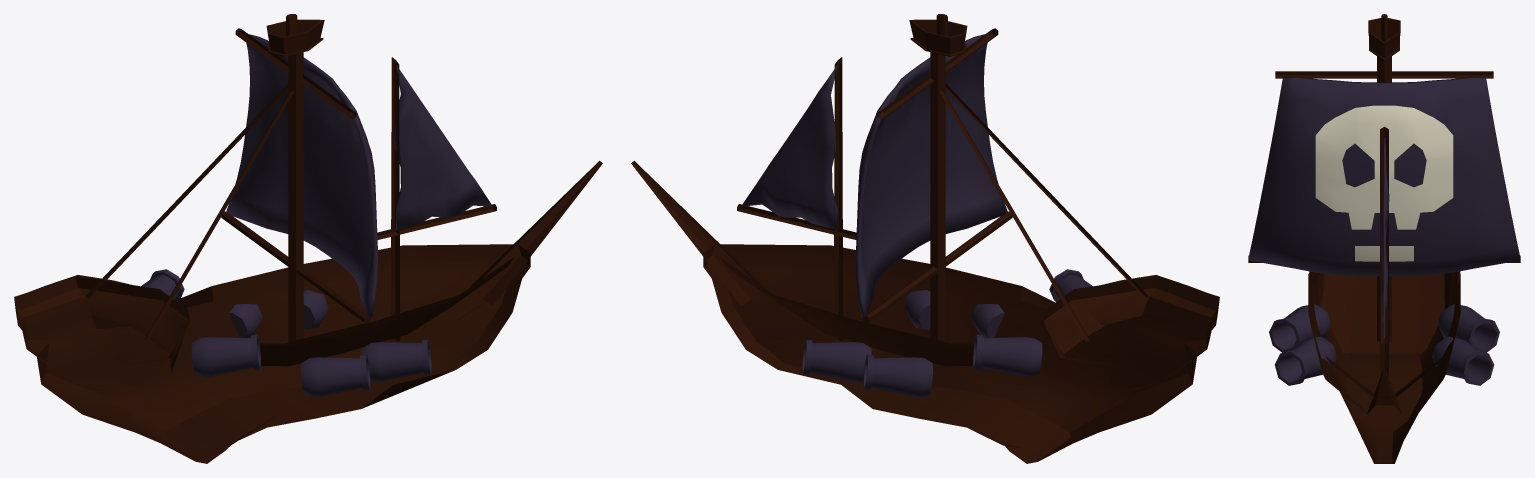
Rendered from pirate_ship.fbx.
3 views of the same model, side by side, from view 1: azimuth 30°, elevation 25°; view 2: azimuth 150°, elevation 25°; view 3: azimuth 270°, elevation 25° (orthographic). The views are drawn at different scales.
Visible parts, largest first — view 1: Cylinder.000, Plane, Cylinder.013, Cube; view 2: Cylinder.000, Plane, Cylinder.013, Cube; view 3: Plane, Cylinder.000, Cylinder.013, Cube.
Part boxes in pixels (<box>): Cylinder.000: <box>14,14,602,463</box>; Plane: <box>226,34,378,318</box>; Cylinder.013: <box>129,269,431,397</box>; Cube: <box>393,65,492,229</box>; Cylinder.000: <box>631,14,1219,463</box>; Plane: <box>855,34,1007,318</box>; Cylinder.013: <box>802,269,1104,397</box>; Cube: <box>741,65,837,229</box>; Plane: <box>1248,77,1520,276</box>; Cylinder.000: <box>1248,14,1520,463</box>; Cylinder.013: <box>1269,304,1499,385</box>; Cube: <box>1381,137,1389,338</box>.
Size of the model in its own units: 571 by 396 by 252.
